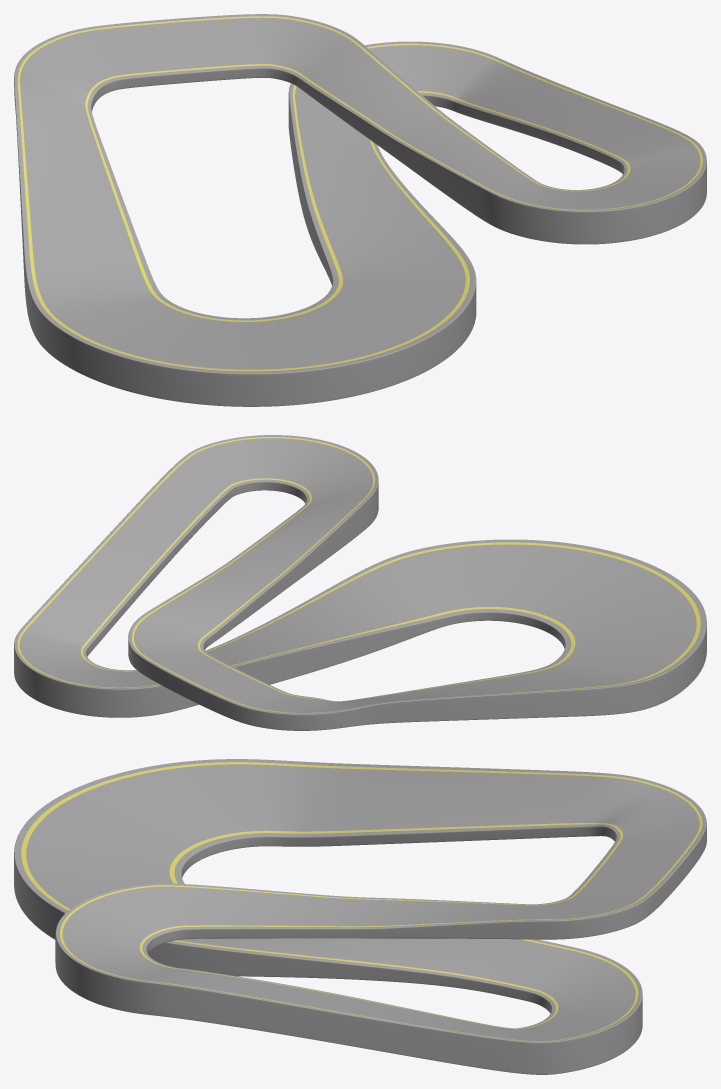
The model's file is PH_Circuit.fbx.
The picture shows the model from 3 angles, top to bottom: view 1: azimuth 30°, elevation 25°; view 2: azimuth 150°, elevation 25°; view 3: azimuth 270°, elevation 25°; orthographic projection. The views are drawn at different scales.
Parts seen in each view (by area): view 1: polySurface11; view 2: polySurface11; view 3: polySurface11.
Part boxes in pixels (box(x1,y1,x2,y2)): polySurface11: box(14, 14, 706, 406); polySurface11: box(14, 435, 706, 730); polySurface11: box(14, 759, 706, 1074).
Bounding box in the file's own units: 5.67 × 0.8965 × 5.68.
